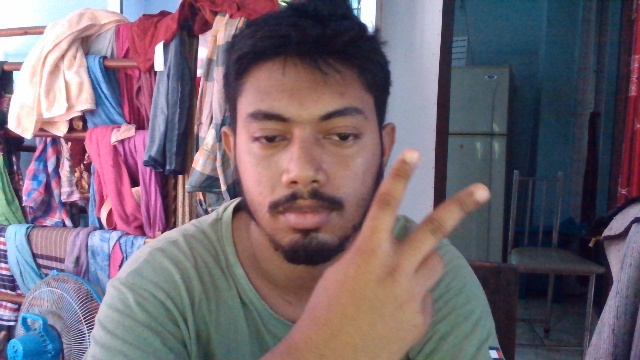thanks: (322, 146, 496, 345)
